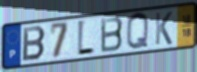7: (48, 20, 71, 61)
B: (99, 16, 125, 55), (21, 25, 47, 63)
K: (154, 10, 174, 47)
L: (77, 18, 96, 58)
Q: (125, 11, 150, 52)
